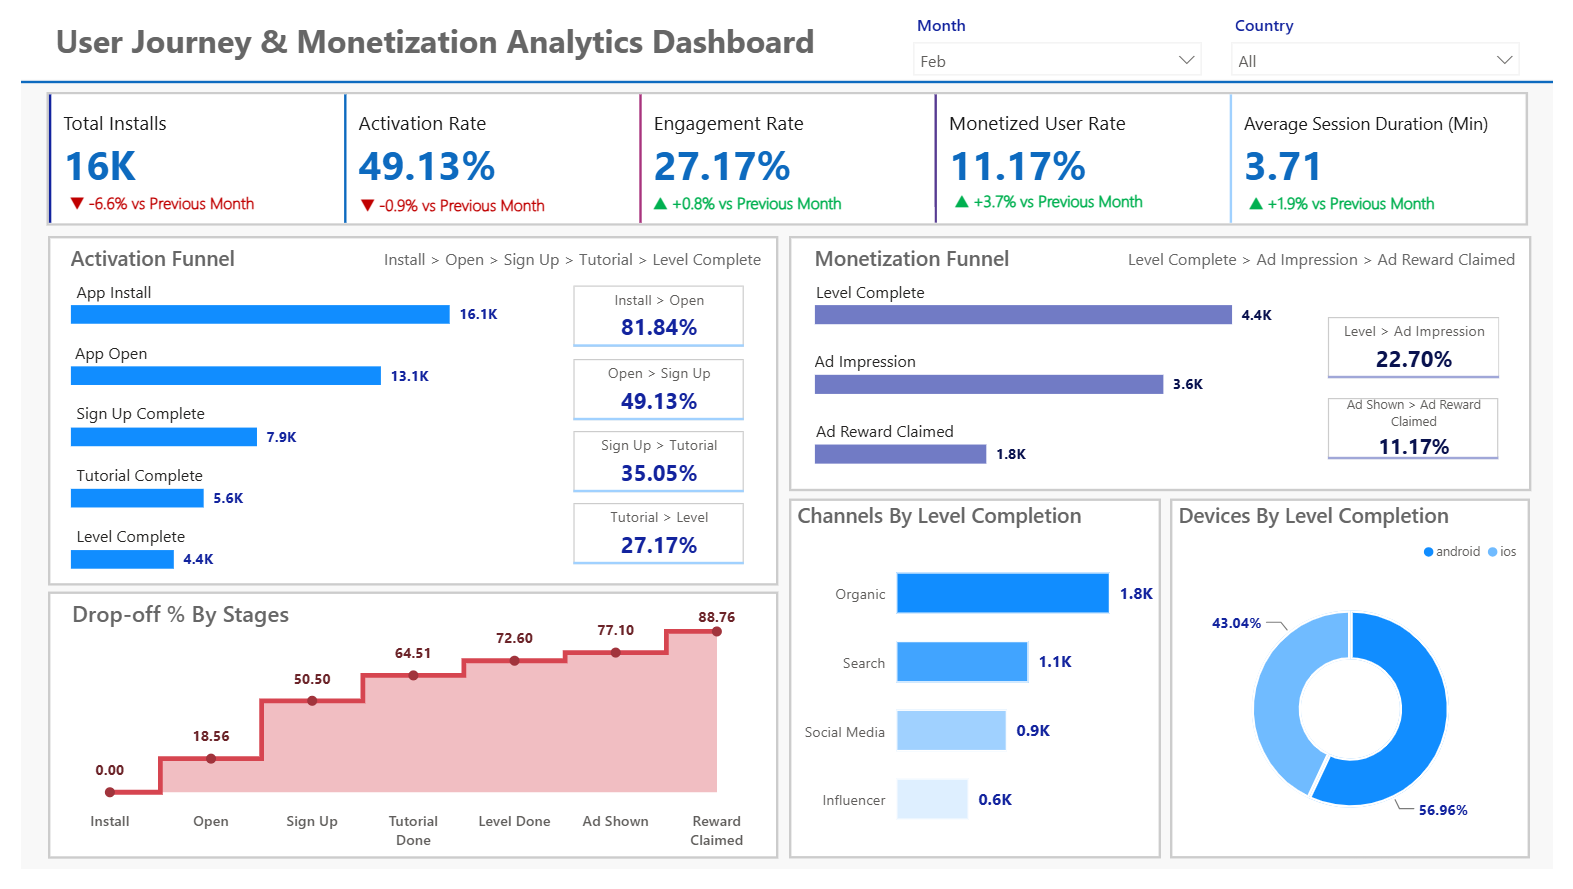

What the dashboard file says about the page in this screenshot:
{"tool":"powerbi","page":{"name":"Executive ","canvas":[1280,720],"ordinal":0},"visuals":[{"type":"shape","title":"BG","box":[0,0,1276.7,720],"z":0},{"type":"shape","box":[0,0,1276.7,128.3],"z":1000},{"type":"shape","box":[0,0,1280,62],"z":2000},{"type":"textbox","title":"Funnel Background","box":[22.9,192.9,608.6,291.4],"z":3000},{"type":"barChart","title":"Activation Funnel","fields":{"Category":["gaming_funnel_dataset.event"],"Y":["CountNonNull(gaming_funnel_dataset.user_id)"]},"box":[36.7,198.3,403.3,278.3],"z":4000},{"type":"textbox","box":[37.3,223.6,90.9,28.2],"z":5000},{"type":"textbox","box":[36.7,275,75,33.3],"z":6000},{"type":"cardVisual","title":"KPI CARD","fields":{"Data":["gaming_funnel_dataset.Total Installs","gaming_funnel_dataset.Activation Rate","gaming_funnel_dataset.Engagement Rate","gaming_funnel_dataset.Monetized User Rate","gaming_funnel_dataset.Average Session Duration (Min)"]},"box":[21.5,73,1234.7,111.1],"z":7000,"group":"g1"},{"type":"textbox","title":"Funnel Background","box":[22.9,488.6,608.6,222.9],"z":7000},{"type":"card","title":"Trend","fields":{"Values":["gaming_funnel_dataset.Avg Session Duration Trend"]},"box":[1002.8,127.2,193.3,83.3],"z":8000,"group":"g1"},{"type":"textbox","box":[37.3,376.4,122.7,29.1],"z":8000},{"type":"card","title":"Trend","fields":{"Values":["gaming_funnel_dataset.Total Installs Trend"]},"box":[25.8,128,176.7,83.3],"z":9000,"group":"g1"},{"type":"textbox","box":[37.3,325.5,122.7,28.2],"z":9000},{"type":"card","title":"Trend","fields":{"Values":["gaming_funnel_dataset.Engagement Rate Trend"]},"box":[512.4,128,191.7,83.3],"z":10000,"group":"g1"},{"type":"textbox","box":[37.3,427.3,122.7,28.2],"z":10000},{"type":"card","title":"Trend","fields":{"Values":["gaming_funnel_dataset.Activation Rate Trend"]},"box":[267.5,128,185,83.3],"z":11000,"group":"g1"},{"type":"textbox","title":"Funnel Background","box":[640,192.9,618.6,212.9],"z":11000},{"type":"card","title":"Trend","fields":{"Values":["gaming_funnel_dataset.Monetized User Rate Trend"]},"box":[762.4,128,190,83.3],"z":12000,"group":"g1"},{"type":"cardVisual","title":"Install > Open","fields":{"Data":["gaming_funnel_dataset.Level > Ad Impression"]},"box":[1083.3,260,153.3,51.1],"z":12000},{"type":"cardVisual","title":"Install > Open","fields":{"Data":["gaming_funnel_dataset.Ad Impression > Ad Reward Claimed"]},"box":[1083.7,327.4,152.9,51.4],"z":13000},{"type":"cardVisual","title":"Install > Open","fields":{"Data":["gaming_funnel_dataset.App Open Conversion %"]},"box":[454.9,234.3,152.9,51.4],"z":14000},{"type":"cardVisual","title":"Install > Open","fields":{"Data":["gaming_funnel_dataset.Signup Conversion %"]},"box":[454.9,294.7,152.9,51.4],"z":15000},{"type":"cardVisual","title":"Install > Open","fields":{"Data":["gaming_funnel_dataset.Tutorial Complete Conversion %"]},"box":[454.9,355.1,152.9,51.4],"z":16000},{"type":"cardVisual","title":"Install > Open","fields":{"Data":["gaming_funnel_dataset.Level Complete Conversion %"]},"box":[455,415.5,152.7,51.8],"z":17000},{"type":"textbox","box":[297.5,196.2,330,55],"z":18000},{"type":"barChart","title":"Monetization Funnel","fields":{"Category":["gaming_funnel_dataset.event"],"Y":["CountNonNull(gaming_funnel_dataset.user_id)"]},"box":[655.7,198.6,408.6,192.9],"z":19000},{"type":"textbox","box":[653.7,223.6,122.7,30],"z":20000},{"type":"textbox","box":[656.4,280.9,122.7,30],"z":21000},{"type":"textbox","box":[653.7,340,170,30],"z":22000},{"type":"textbox","box":[917.8,196.7,333.3,54.4],"z":23000},{"type":"textbox","box":[23.3,6.7,910,46.7],"z":24000},{"type":"clusteredBarChart","title":"Channels By Level Completion","fields":{"Category":["gaming_funnel_dataset.channel"],"Y":["gaming_funnel_dataset.Level Completers"]},"box":[640,411.8,310,300],"z":25000},{"type":"pieChart","title":"Devices By Level Completion","fields":{"Y":["gaming_funnel_dataset.Level Completers"],"Category":["gaming_funnel_dataset.device_type"]},"box":[957.1,411.4,300,300],"z":26000},{"type":"slicer","fields":{"Values":["DateTable.Month"]},"box":[734,0.9,260,58],"z":27000},{"type":"group","id":"g1","title":"Group 1","box":[21.5,73,1234.7,138.3],"z":28000},{"type":"lineChart","title":"Drop-off Rates By Stages","fields":{"Category":["conversion_rates.event"],"Y":["Sum(conversion_rates.cumulative_dropoff_pct)"]},"box":[0,488.6,624.3,217.1],"z":29000},{"type":"textbox","box":[37.1,488.6,300,41.4],"z":30000},{"type":"slicer","fields":{"Values":["gaming_funnel_dataset.country"]},"box":[998.9,1.1,260,57.8],"z":31000}]}

Visuals, with their boxes in screenshot pixels (x1, y1, x2, y2), scaled from the page's 1280x720 canvas onto the 1573x889 screenshot:
"BG" shape: <region>0, 0, 1569, 888</region>
shape: <region>0, 0, 1569, 158</region>
shape: <region>0, 0, 1572, 77</region>
"Funnel Background" textbox: <region>28, 238, 776, 598</region>
"Activation Funnel" barChart: <region>45, 245, 541, 588</region>
textbox: <region>46, 276, 158, 311</region>
textbox: <region>45, 340, 137, 381</region>
"KPI CARD" cardVisual: <region>26, 90, 1544, 227</region>
"Funnel Background" textbox: <region>28, 603, 776, 879</region>
"Trend" card: <region>1232, 157, 1470, 260</region>
textbox: <region>46, 465, 197, 501</region>
"Trend" card: <region>32, 158, 249, 261</region>
textbox: <region>46, 402, 197, 437</region>
"Trend" card: <region>630, 158, 865, 261</region>
textbox: <region>46, 528, 197, 562</region>
"Trend" card: <region>329, 158, 556, 261</region>
"Funnel Background" textbox: <region>786, 238, 1547, 501</region>
"Trend" card: <region>937, 158, 1170, 261</region>
"Install > Open" cardVisual: <region>1331, 321, 1520, 384</region>
"Install > Open" cardVisual: <region>1332, 404, 1520, 468</region>
"Install > Open" cardVisual: <region>559, 289, 747, 353</region>
"Install > Open" cardVisual: <region>559, 364, 747, 427</region>
"Install > Open" cardVisual: <region>559, 438, 747, 502</region>
"Install > Open" cardVisual: <region>559, 513, 747, 577</region>
textbox: <region>366, 242, 771, 310</region>
"Monetization Funnel" barChart: <region>806, 245, 1308, 483</region>
textbox: <region>803, 276, 954, 313</region>
textbox: <region>807, 347, 957, 384</region>
textbox: <region>803, 420, 1012, 457</region>
textbox: <region>1128, 243, 1537, 310</region>
textbox: <region>29, 8, 1147, 66</region>
"Channels By Level Completion" clusteredBarChart: <region>786, 508, 1167, 879</region>
"Devices By Level Completion" pieChart: <region>1176, 508, 1545, 878</region>
slicer - DateTable.Month: <region>902, 1, 1222, 73</region>
"Group 1" group: <region>26, 90, 1544, 261</region>
"Drop-off Rates By Stages" lineChart: <region>0, 603, 767, 871</region>
textbox: <region>46, 603, 414, 654</region>
slicer - gaming_funnel_dataset.country: <region>1228, 1, 1547, 73</region>
